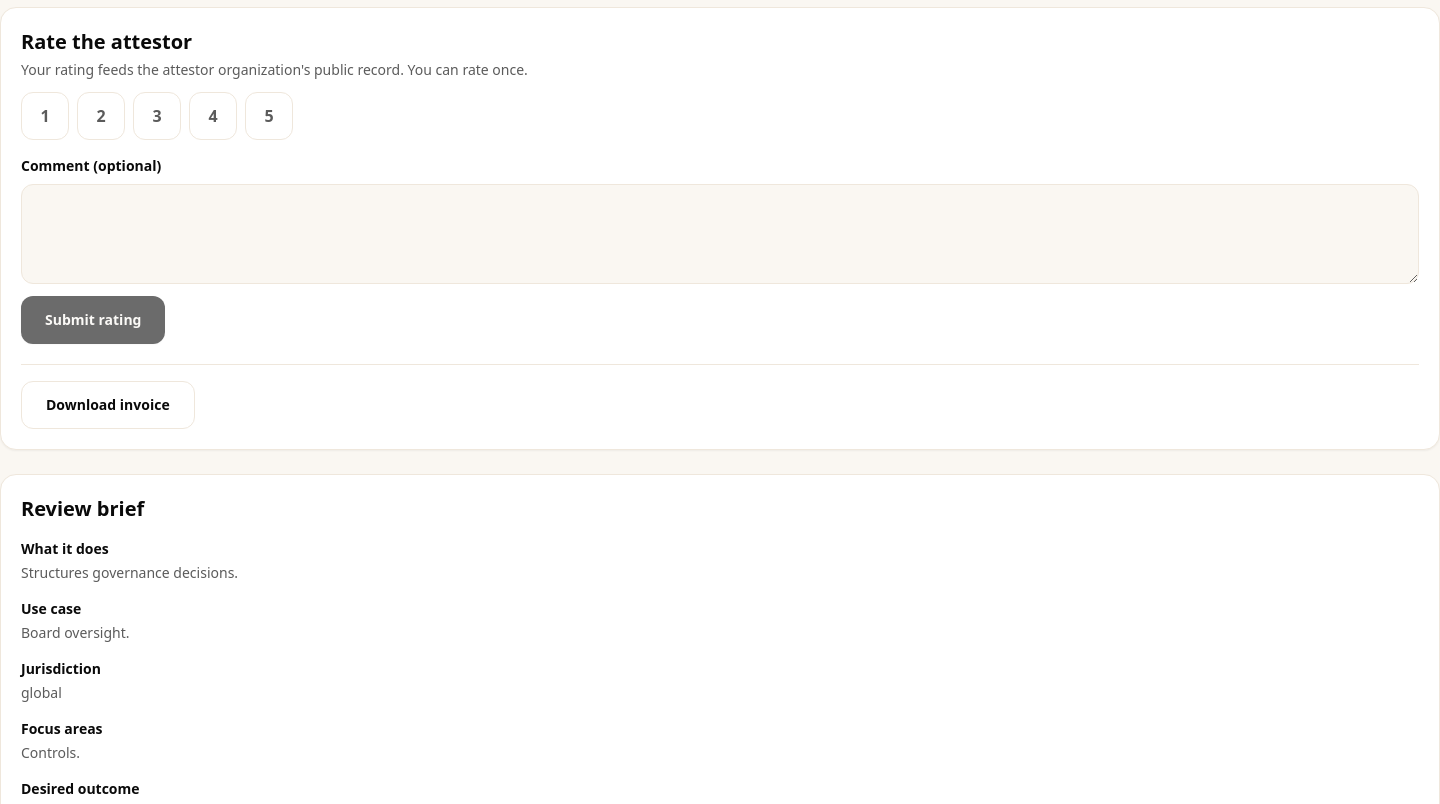
Test: AttestationDetail settled request › says the invoice is still being prepared on a 202
The width and height of the screenshot is (1440, 804).
(page scrolled)
Step 1. Click the button "Download invoice" → {"x": 108, "y": 405}, box [21,381,195,429]
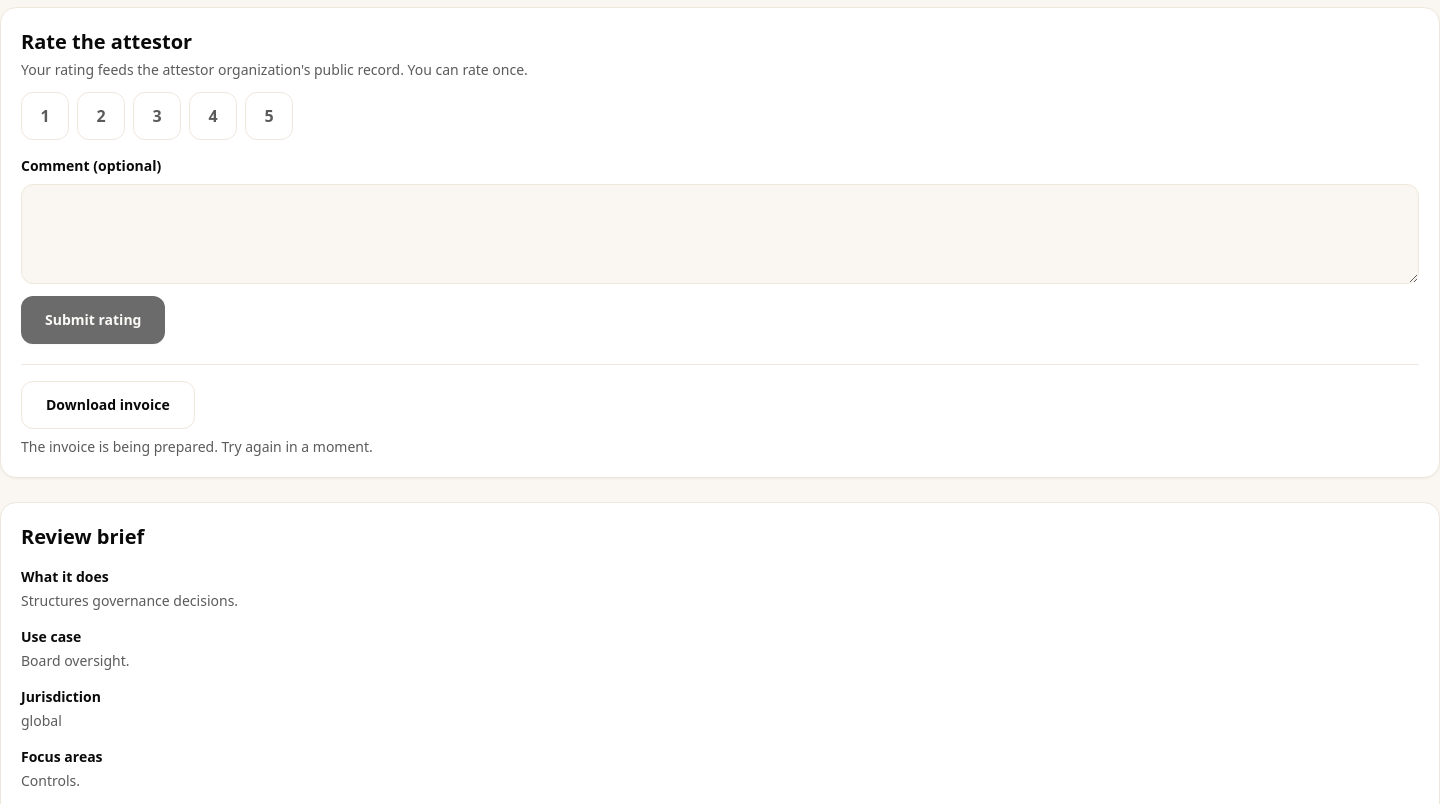
Expected: the text "The invoice is being prepared. Try again in a moment." is shown, [21,437,373,456]
